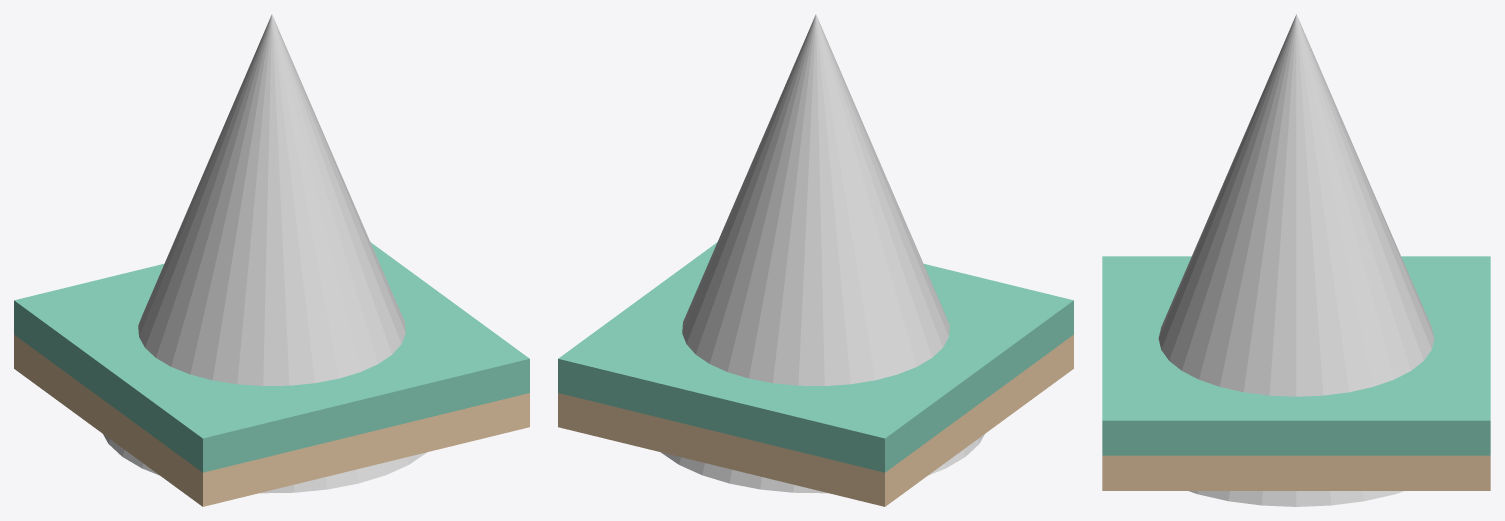
Rendered from terrain_treeCOL.gltf.
The picture shows the model from 3 angles, left to right: view 1: azimuth 30°, elevation 25°; view 2: azimuth 150°, elevation 25°; view 3: azimuth 270°, elevation 25°; orthographic projection. The views are drawn at different scales.
Parts seen in each view (by area): view 1: tile_tree, COL; view 2: tile_tree, COL; view 3: COL, tile_tree.
Part boxes in pixels (x1=…): tile_tree: x1=14, y1=242, x2=529, y2=506; COL: x1=103, y1=14, x2=426, y2=493; tile_tree: x1=558, y1=242, x2=1073, y2=506; COL: x1=661, y1=14, x2=984, y2=493; COL: x1=1158, y1=14, x2=1434, y2=506; tile_tree: x1=1102, y1=256, x2=1490, y2=490.
Bounding box in the file's own units: 1 × 1.19 × 1.
